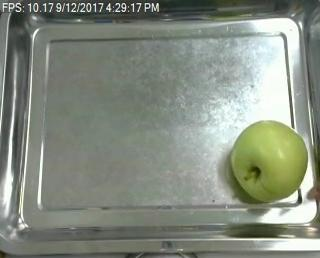fruit: (221, 115, 312, 209)
